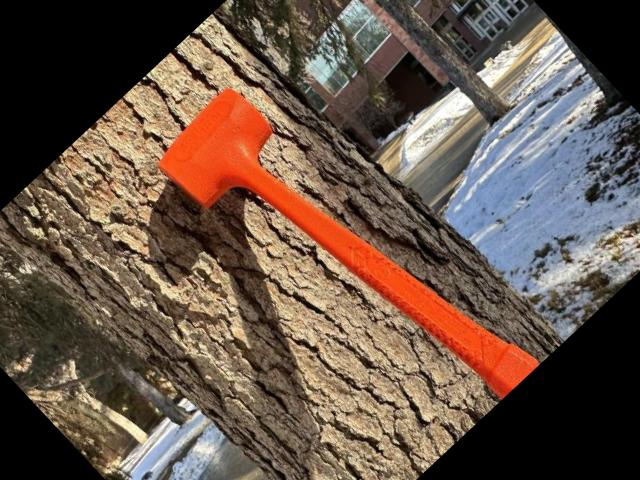hammer: (150, 54, 542, 460)
